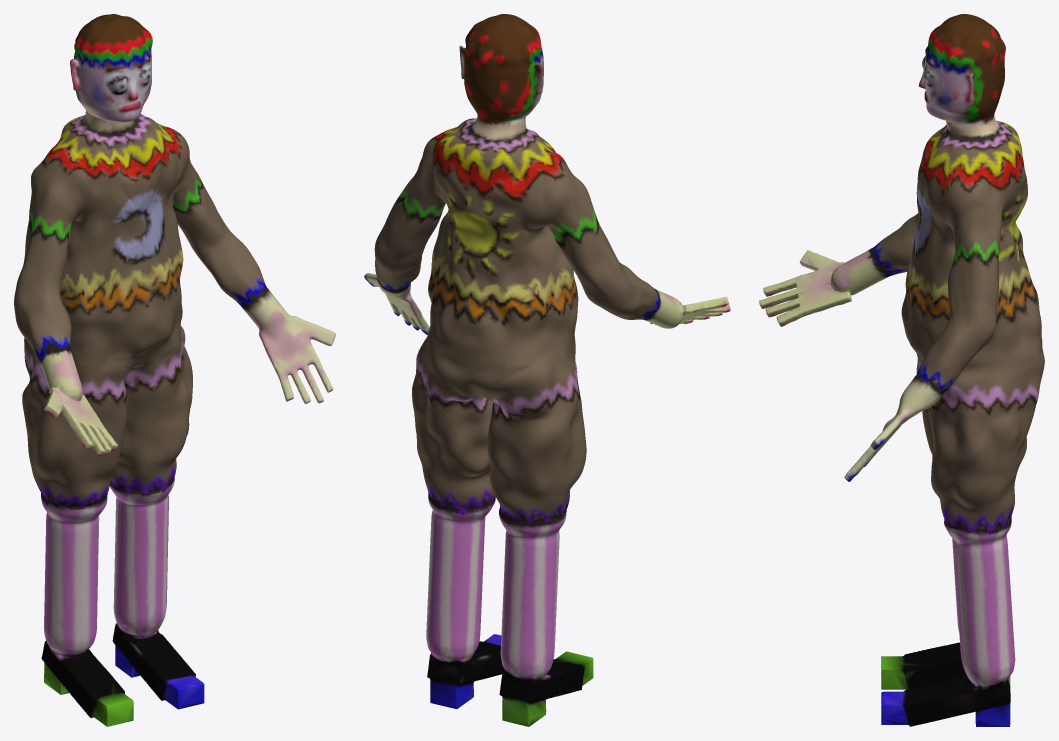
File: clown.glb
3 renders of one model, left to right at view 1: azimuth 30°, elevation 25°; view 2: azimuth 150°, elevation 25°; view 3: azimuth 270°, elevation 25°, orthographic.
Parts seen in each view (by area): view 1: Volume_Mesher.003; view 2: Volume_Mesher.003; view 3: Volume_Mesher.003.
Boxes of the visible parts, bbox=[...] form: Volume_Mesher.003: bbox=[14, 14, 335, 726]; Volume_Mesher.003: bbox=[364, 14, 730, 726]; Volume_Mesher.003: bbox=[759, 14, 1044, 726].
Bounding box in the file's own units: 6.47 × 12.75 × 4.83.
